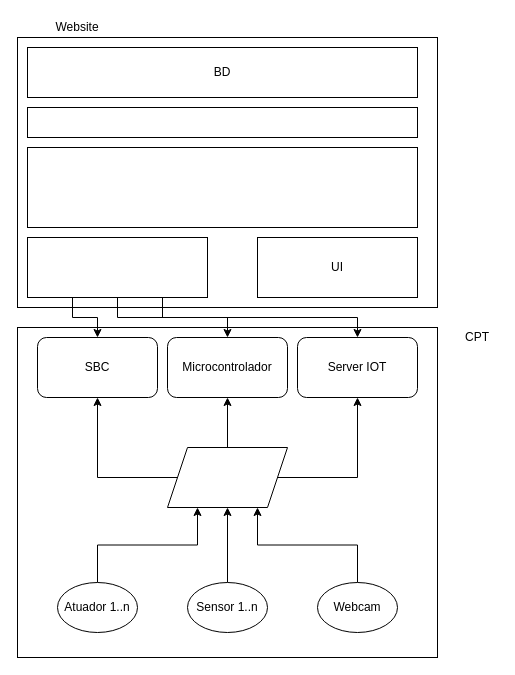
Some shapes in this 515 by 675 pixel diagram are drawn without their labels. The shapes that lost their labels are listed below. From the top down, each one's centre as x and y in pixels, then its label:
the point at 222,122: Acesso a base de dados
the point at 222,187: Logica de Negocio
the point at 117,267: API
the point at 227,477: Rede
